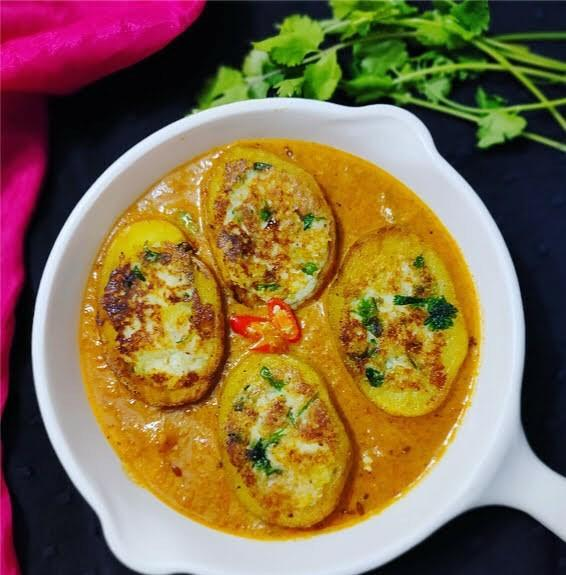DumAloo: (78, 137, 483, 541)
